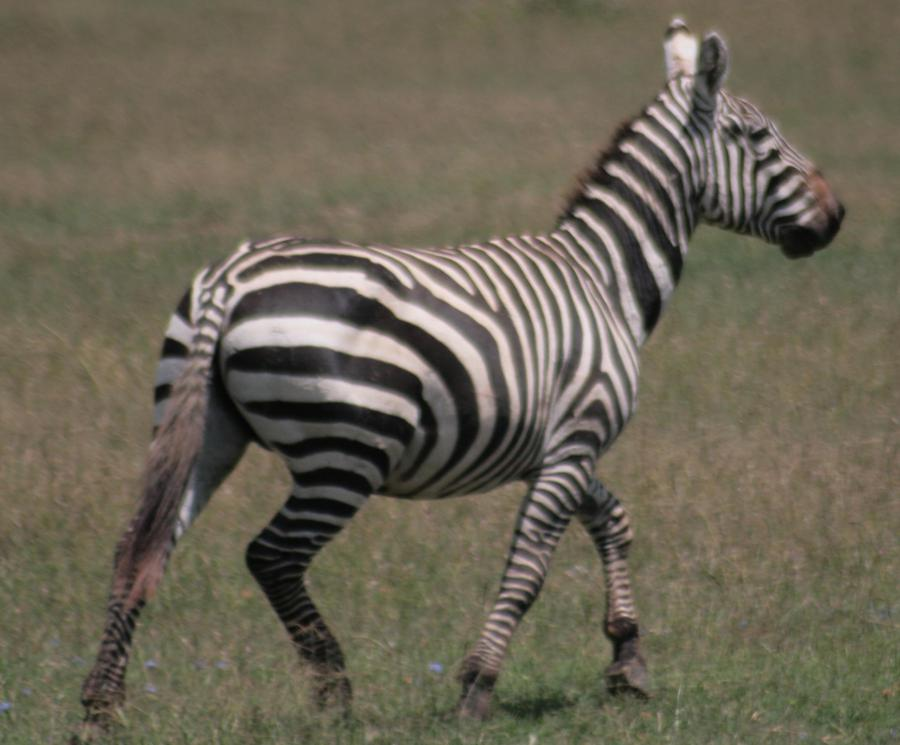zebra_plains: (248, 205, 633, 510)
